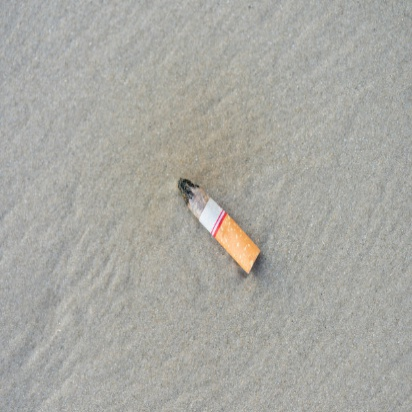cigarette: (172, 174, 268, 279)
